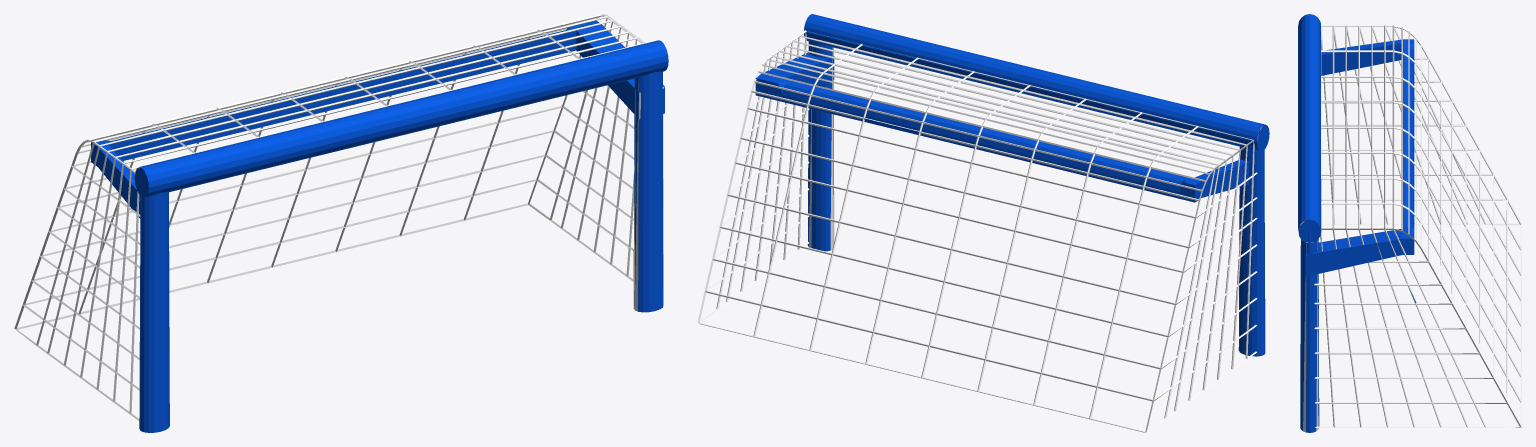
The model's file is Gol.glb.
3 views of the same model, side by side, from view 1: azimuth 30°, elevation 25°; view 2: azimuth 150°, elevation 25°; view 3: azimuth 270°, elevation 25° (orthographic). The views are drawn at different scales.
Visible parts, largest first — view 1: Cylinder.010; view 2: Cylinder.010; view 3: Cylinder.010.
Boxes of the visible parts, x1,y1,x2,y2 form: Cylinder.010: (14,14,668,432); Cylinder.010: (697,14,1269,432); Cylinder.010: (1298,14,1521,432).
Bounding box in the file's own units: 7.06 × 3.39 × 3.23.
